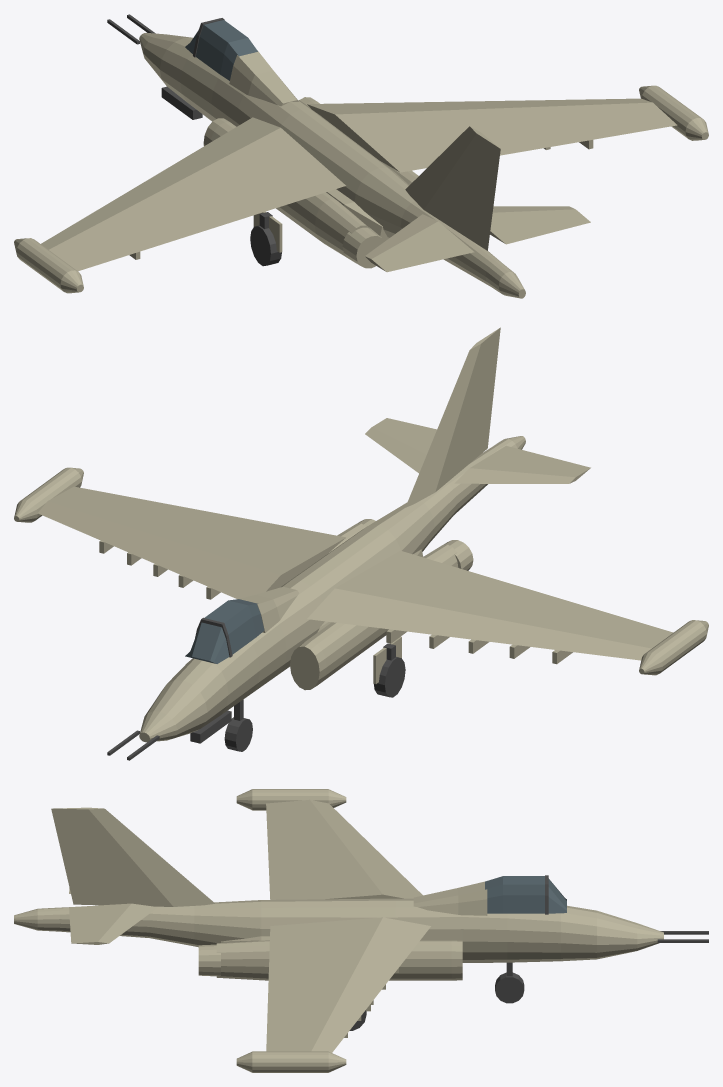
3 renders of one model, top to bottom at view 1: azimuth 30°, elevation 25°; view 2: azimuth 150°, elevation 25°; view 3: azimuth 270°, elevation 25°, orthographic. The views are drawn at different scales.
Parts seen in each view (by area): view 1: Wing_L, Wing_R, Fuselage, Fin, Tailplane_L, Nacelle_L, Tailplane_R, Canopy, SpineHump, TipPod_L, TipPod_R, Nozzle_L (+3 smaller); view 2: Wing_L, Fuselage, Wing_R, Fin, Nacelle_L, Tailplane_L, Canopy, Tailplane_R, TipPod_L, TipPod_R, SpineHump, Wheel_Main_L (+1 smaller); view 3: Fuselage, Wing_R, Wing_L, Fin, Nacelle_R, Canopy, Tailplane_R, TipPod_R, SpineHump, TipPod_L, Wheel_Nose, Nozzle_R.
Boxes of the visible parts, <box> form: Wing_L: <box>41,117,345,271</box>; Wing_R: <box>307,98,677,172</box>; Fuselage: <box>139,32,525,298</box>; Fin: <box>405,126,500,250</box>; Tailplane_L: <box>365,214,474,272</box>; Nacelle_L: <box>203,118,370,262</box>; Tailplane_R: <box>490,206,590,244</box>; Canopy: <box>185,20,257,80</box>; SpineHump: <box>229,50,298,106</box>; TipPod_L: <box>14,238,83,293</box>; TipPod_R: <box>639,85,708,140</box>; Nozzle_L: <box>342,227,384,268</box>; Wing_L: <box>307,550,673,660</box>; Fuselage: <box>139,436,525,742</box>; Wing_R: <box>37,486,345,599</box>; Fin: <box>405,327,500,507</box>; Nacelle_L: <box>290,544,458,690</box>; Tailplane_L: <box>454,445,590,483</box>; Canopy: <box>185,599,264,663</box>; Tailplane_R: <box>365,418,436,473</box>; TipPod_L: <box>639,620,708,675</box>; TipPod_R: <box>14,467,83,522</box>; SpineHump: <box>239,586,298,632</box>; Wheel_Main_L: <box>374,657,405,697</box>; Fuselage: <box>14,898,663,962</box>; Wing_R: <box>266,917,430,1052</box>; Wing_L: <box>266,799,422,899</box>; Fin: <box>51,807,214,906</box>; Nacelle_R: <box>216,940,462,980</box>; Canopy: <box>485,876,566,913</box>; Tailplane_R: <box>69,903,157,944</box>; TipPod_R: <box>236,1051,346,1072</box>; SpineHump: <box>413,881,487,915</box>; TipPod_L: <box>236,789,346,810</box>; Wheel_Nose: <box>495,972,524,1003</box>; Nozzle_R: <box>198,944,220,976</box>.
Size of the model in its own units: 14.36 by 4.79 by 15.54.
